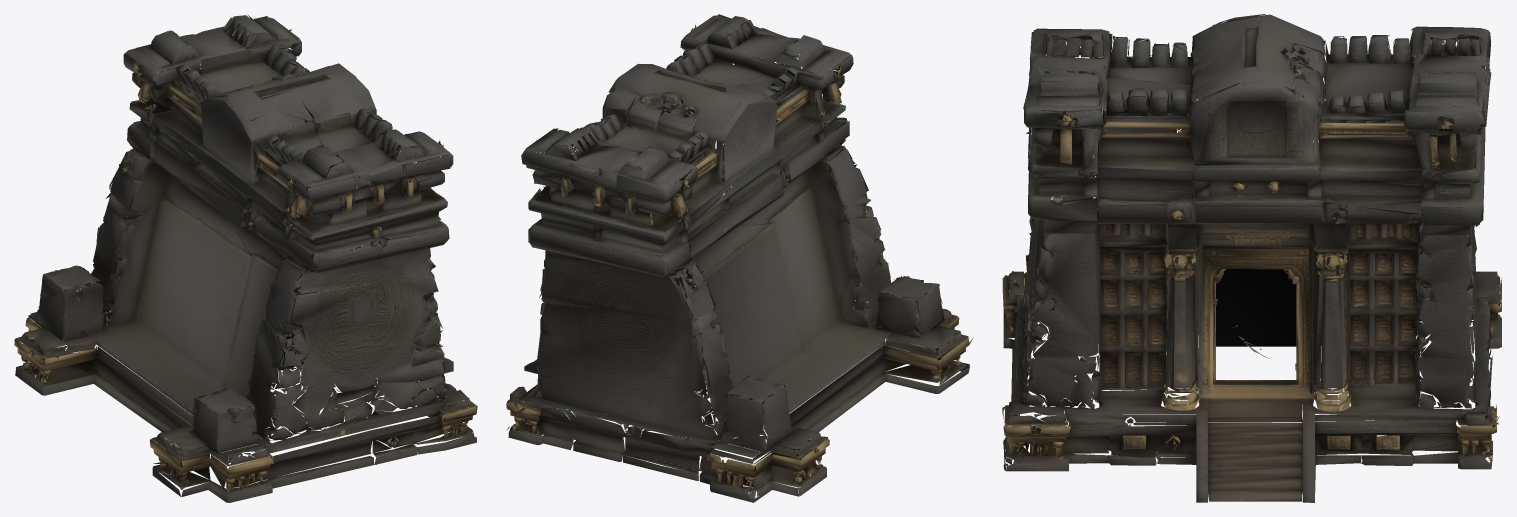
File: ch7_archive_facade_LOD1.glb
3 renders of one model, left to right at view 1: azimuth 30°, elevation 25°; view 2: azimuth 150°, elevation 25°; view 3: azimuth 270°, elevation 25°, orthographic. The views are drawn at different scales.
Parts seen in each view (by area): view 1: tripo_node_483b1887-9006-4e64-bec1-bd8683a9b88a; view 2: tripo_node_483b1887-9006-4e64-bec1-bd8683a9b88a; view 3: tripo_node_483b1887-9006-4e64-bec1-bd8683a9b88a.
Boxes of the visible parts, bbox=[...] form: tripo_node_483b1887-9006-4e64-bec1-bd8683a9b88a: bbox=[14, 14, 477, 502]; tripo_node_483b1887-9006-4e64-bec1-bd8683a9b88a: bbox=[506, 14, 972, 502]; tripo_node_483b1887-9006-4e64-bec1-bd8683a9b88a: bbox=[1002, 14, 1501, 502].
Bounding box in the file's own units: 0.9501 × 0.8262 × 0.9989.
Materials: 1 (1 with a texture image).
